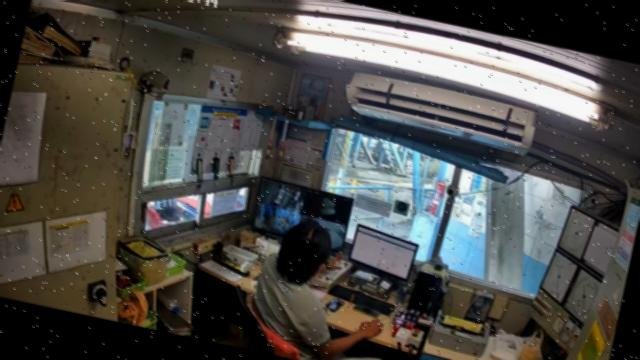Head: (276, 220, 333, 284)
People: (254, 222, 384, 359)
Phone: (352, 305, 381, 317), (325, 299, 344, 311)
